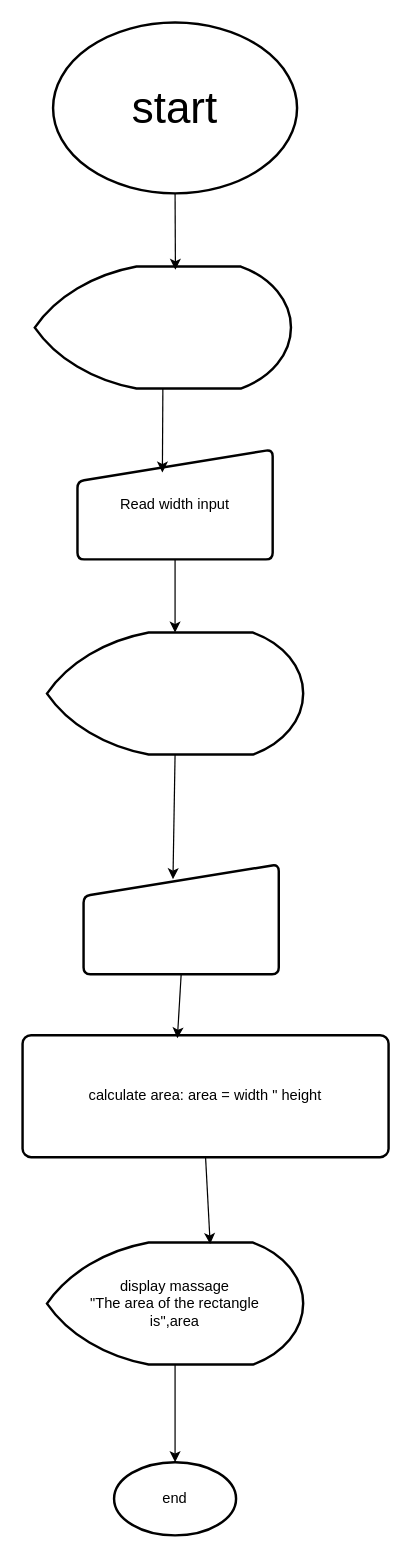
This 410x1557 diagram has some shape labels left out. Here are the shapes that lost their labels. From the top down, the box of each, then its label:
(33, 265, 292, 389): display massage Enter" the width of the rectiangle"
(45, 631, 304, 755): display massage Enter" the height of the rectiangle"
(82, 863, 279, 975): Read height input
